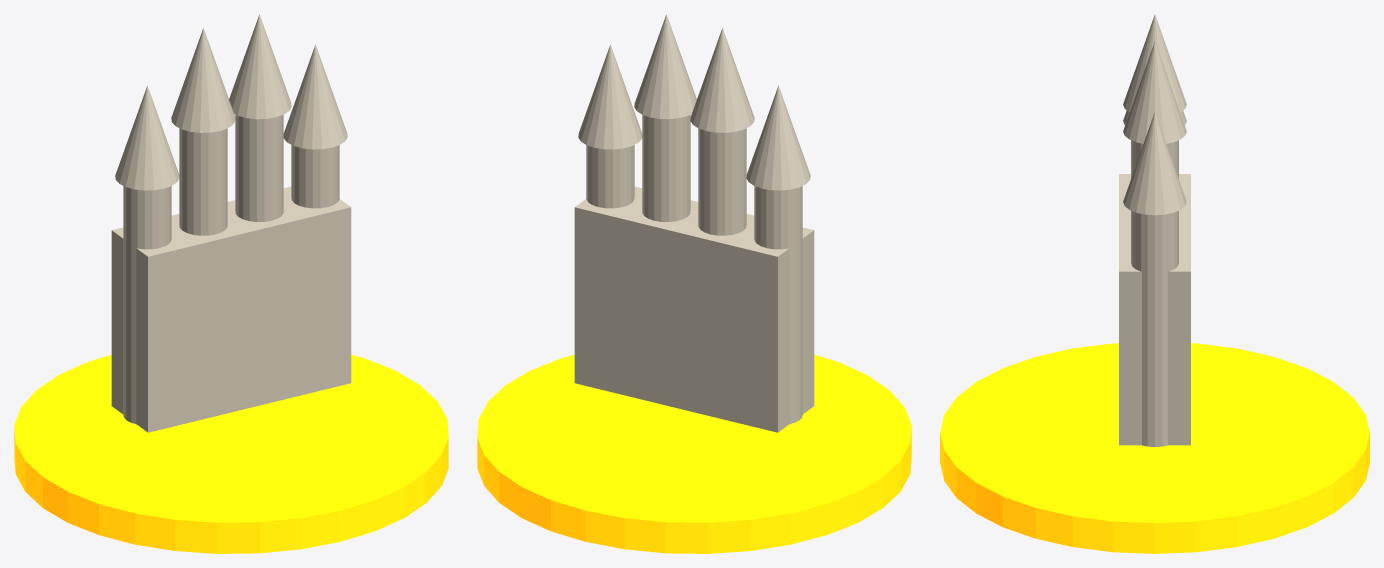
Rendered from spanish_sagrada_familia.glb.
The picture shows the model from 3 angles, left to right: view 1: azimuth 30°, elevation 25°; view 2: azimuth 150°, elevation 25°; view 3: azimuth 270°, elevation 25°; orthographic projection.
Parts seen in each view (by area): view 1: 11_11_Popular_Spanish_Sagrada_Familia_ROOT_base, 11_11_Popular_Spanish_Sagrada_Familia_part_09, 11_11_Popular_Spanish_Sagrada_Familia_part_01, 11_11_Popular_Spanish_Sagrada_Familia_part_03, 11_11_Popular_Spanish_Sagrada_Familia_part_05, 11_11_Popular_Spanish_Sagrada_Familia_part_08, 11_11_Popular_Spanish_Sagrada_Familia_part_02, 11_11_Popular_Spanish_Sagrada_Familia_part_04, 11_11_Popular_Spanish_Sagrada_Familia_part_06, 11_11_Popular_Spanish_Sagrada_Familia_part_07; view 2: 11_11_Popular_Spanish_Sagrada_Familia_ROOT_base, 11_11_Popular_Spanish_Sagrada_Familia_part_09, 11_11_Popular_Spanish_Sagrada_Familia_part_01, 11_11_Popular_Spanish_Sagrada_Familia_part_03, 11_11_Popular_Spanish_Sagrada_Familia_part_05, 11_11_Popular_Spanish_Sagrada_Familia_part_08, 11_11_Popular_Spanish_Sagrada_Familia_part_02, 11_11_Popular_Spanish_Sagrada_Familia_part_04, 11_11_Popular_Spanish_Sagrada_Familia_part_06, 11_11_Popular_Spanish_Sagrada_Familia_part_07; view 3: 11_11_Popular_Spanish_Sagrada_Familia_ROOT_base, 11_11_Popular_Spanish_Sagrada_Familia_part_09, 11_11_Popular_Spanish_Sagrada_Familia_part_07, 11_11_Popular_Spanish_Sagrada_Familia_part_08, 11_11_Popular_Spanish_Sagrada_Familia_part_06, 11_11_Popular_Spanish_Sagrada_Familia_part_04.
Part boxes in pixels (left/top/right/bottom): 11_11_Popular_Spanish_Sagrada_Familia_ROOT_base: left=14, top=354, right=448, bottom=553; 11_11_Popular_Spanish_Sagrada_Familia_part_09: left=111, top=186, right=351, bottom=432; 11_11_Popular_Spanish_Sagrada_Familia_part_01: left=123, top=186, right=171, bottom=423; 11_11_Popular_Spanish_Sagrada_Familia_part_03: left=179, top=128, right=227, bottom=235; 11_11_Popular_Spanish_Sagrada_Familia_part_05: left=235, top=114, right=283, bottom=221; 11_11_Popular_Spanish_Sagrada_Familia_part_08: left=283, top=44, right=347, bottom=149; 11_11_Popular_Spanish_Sagrada_Familia_part_02: left=115, top=85, right=179, bottom=190; 11_11_Popular_Spanish_Sagrada_Familia_part_04: left=171, top=28, right=235, bottom=132; 11_11_Popular_Spanish_Sagrada_Familia_part_06: left=229, top=14, right=291, bottom=119; 11_11_Popular_Spanish_Sagrada_Familia_part_07: left=291, top=145, right=339, bottom=208; 11_11_Popular_Spanish_Sagrada_Familia_ROOT_base: left=477, top=354, right=911, bottom=553; 11_11_Popular_Spanish_Sagrada_Familia_part_09: left=574, top=186, right=814, bottom=432; 11_11_Popular_Spanish_Sagrada_Familia_part_01: left=754, top=186, right=802, bottom=423; 11_11_Popular_Spanish_Sagrada_Familia_part_03: left=698, top=128, right=746, bottom=235; 11_11_Popular_Spanish_Sagrada_Familia_part_05: left=642, top=114, right=690, bottom=221; 11_11_Popular_Spanish_Sagrada_Familia_part_08: left=578, top=44, right=642, bottom=149; 11_11_Popular_Spanish_Sagrada_Familia_part_02: left=746, top=85, right=810, bottom=190; 11_11_Popular_Spanish_Sagrada_Familia_part_04: left=690, top=28, right=754, bottom=132; 11_11_Popular_Spanish_Sagrada_Familia_part_06: left=634, top=14, right=696, bottom=119; 11_11_Popular_Spanish_Sagrada_Familia_part_07: left=586, top=145, right=634, bottom=208; 11_11_Popular_Spanish_Sagrada_Familia_ROOT_base: left=940, top=343, right=1369, bottom=553; 11_11_Popular_Spanish_Sagrada_Familia_part_09: left=1119, top=174, right=1190, bottom=445; 11_11_Popular_Spanish_Sagrada_Familia_part_07: left=1131, top=210, right=1178, bottom=446; 11_11_Popular_Spanish_Sagrada_Familia_part_08: left=1123, top=112, right=1186, bottom=215; 11_11_Popular_Spanish_Sagrada_Familia_part_06: left=1123, top=41, right=1186, bottom=143; 11_11_Popular_Spanish_Sagrada_Familia_part_04: left=1123, top=14, right=1186, bottom=112.
Size of the model in its own units: 0.76 by 0.85 by 0.76.
